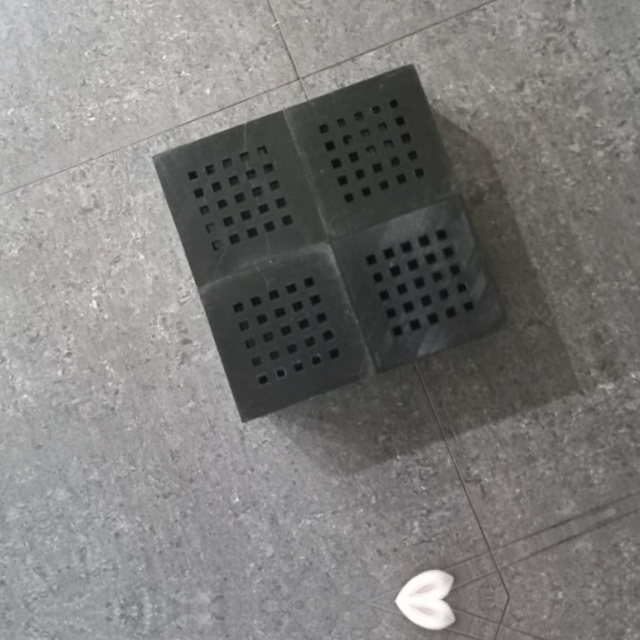pallet: (140, 53, 528, 439)
